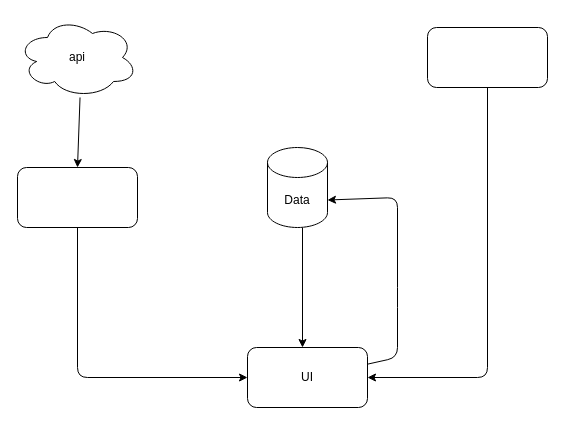
The diagram is 565 pixels wide and 425 high, and some of its shapes have lost their labels. Here are the shapes that lost their labels. From the top down, the box of each, then its label:
(426, 26, 548, 88): Domain
(16, 166, 138, 228): Infra
